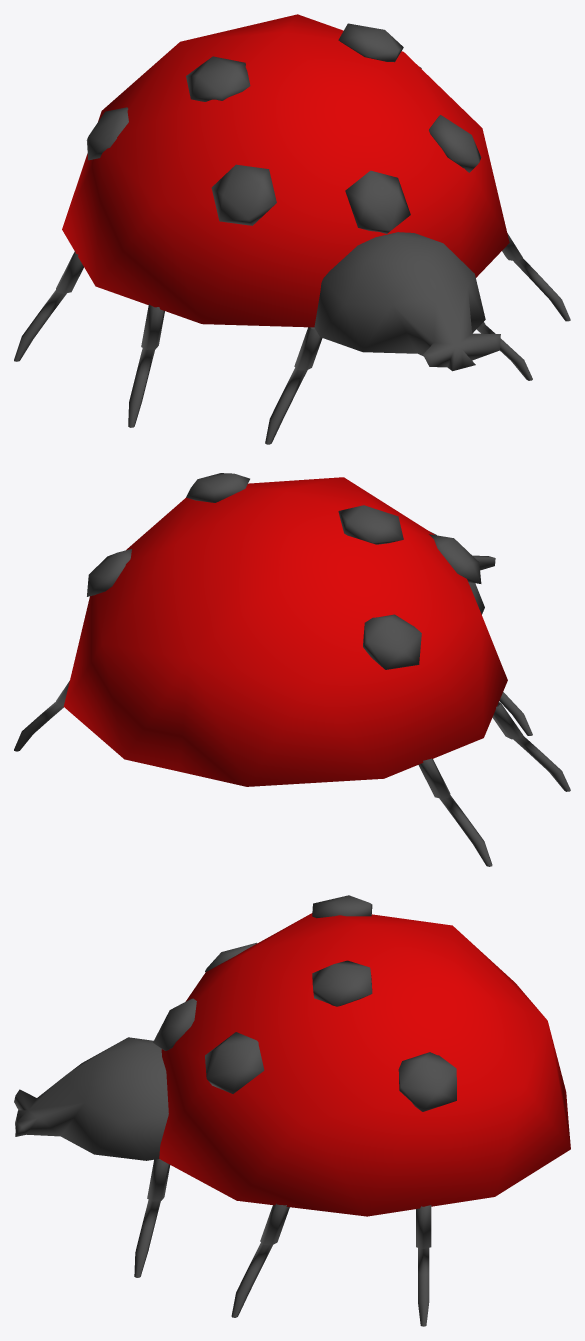
The model's file is buggy.gltf.
The picture shows the model from 3 angles, top to bottom: view 1: azimuth 30°, elevation 25°; view 2: azimuth 150°, elevation 25°; view 3: azimuth 270°, elevation 25°; orthographic projection. The views are drawn at different scales.
Visible parts, largest first — view 1: Object_5, Object_4; view 2: Object_5, Object_4; view 3: Object_5, Object_4.
Boxes of the visible parts, <box> form: Object_5: <box>62,14,509,327</box>; Object_4: <box>14,23,570,444</box>; Object_5: <box>63,477,507,786</box>; Object_4: <box>14,473,570,866</box>; Object_5: <box>159,913,570,1216</box>; Object_4: <box>14,895,456,1326</box>.
Bounding box in the file's own units: 246 × 145 × 253.
